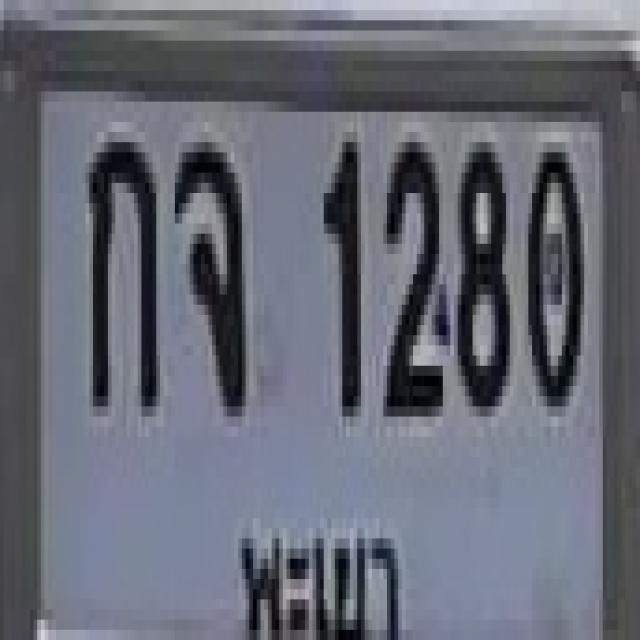0: (524, 142, 580, 396)
1: (320, 132, 357, 406)
2: (379, 132, 443, 406)
8: (454, 132, 506, 406)
A01: (86, 132, 156, 406)
A08: (171, 132, 242, 406)
PYO: (231, 513, 408, 640)
